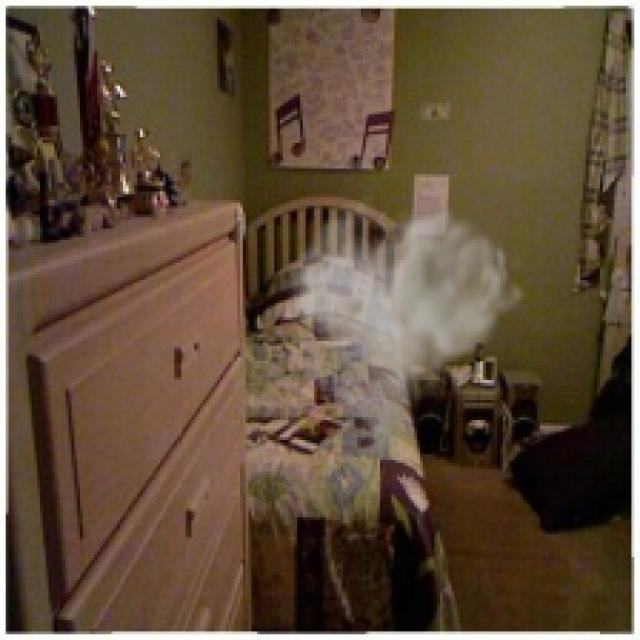Smoke: (277, 180, 529, 460)
